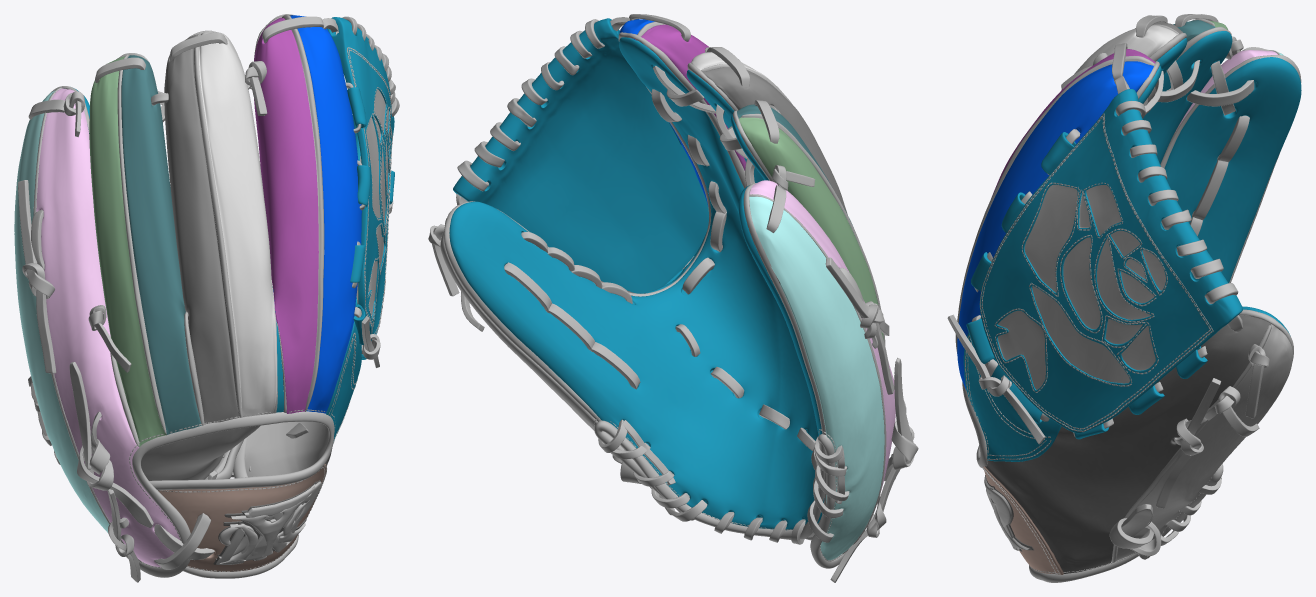
Rendered from rose_glove_final_of_draco.gltf.
The picture shows the model from 3 angles, left to right: view 1: azimuth 30°, elevation 25°; view 2: azimuth 150°, elevation 25°; view 3: azimuth 270°, elevation 25°; orthographic projection. The views are drawn at different scales.
Parts seen in each view (by area): view 1: pinky_inner, index_outer, middle_inner, ring_inner, LC5, middle_outer, index_inner, ring_outer, welt, web, lining, LC7 (+10 smaller); view 2: palm, web, LC5, pinky_outer, welt, ring_outer, LC7, web_laces, middle_outer, pinky_inner, thumb_outer, index_outer; view 3: web, palm, thumb_inner, web_graphic, LC5, index_inner, thumb_outer, web_stitches, web_laces, welt, wrist, LC7 (+5 smaller).
Part boxes in pixels (bbox=[...]): pinky_inner: bbox=[36, 88, 180, 567]; index_outer: bbox=[254, 17, 318, 413]; middle_inner: bbox=[199, 31, 277, 417]; ring_inner: bbox=[121, 55, 201, 434]; LC5: bbox=[18, 16, 393, 582]; middle_outer: bbox=[164, 33, 240, 424]; index_inner: bbox=[290, 15, 361, 413]; ring_outer: bbox=[89, 56, 166, 446]; welt: bbox=[33, 14, 361, 562]; web: bbox=[327, 17, 394, 359]; lining: bbox=[36, 66, 328, 519]; LC7: bbox=[126, 410, 334, 578]; palm: bbox=[449, 37, 824, 530]; web: bbox=[453, 18, 708, 293]; LC5: bbox=[428, 14, 918, 582]; pinky_outer: bbox=[749, 196, 884, 560]; welt: bbox=[444, 22, 886, 554]; ring_outer: bbox=[739, 117, 883, 340]; LC7: bbox=[594, 420, 846, 568]; web_laces: bbox=[457, 19, 693, 269]; middle_outer: bbox=[702, 67, 847, 214]; pinky_inner: bbox=[749, 180, 895, 507]; thumb_outer: bbox=[440, 233, 814, 537]; index_outer: bbox=[635, 24, 745, 170]; web: bbox=[966, 89, 1242, 439]; palm: bbox=[963, 31, 1301, 461]; thumb_inner: bbox=[985, 315, 1271, 573]; web_graphic: bbox=[997, 184, 1165, 389]; LC5: bbox=[1061, 14, 1269, 559]; index_inner: bbox=[957, 61, 1158, 389]; thumb_outer: bbox=[1115, 324, 1292, 561]; web_stitches: bbox=[979, 113, 1213, 432]; web_laces: bbox=[947, 100, 1238, 444]; welt: bbox=[955, 18, 1301, 562]; wrist: bbox=[983, 466, 1063, 574]; LC7: bbox=[962, 382, 1223, 582].
Size of the model in its own units: 0.2183 by 0.2697 by 0.1516.
